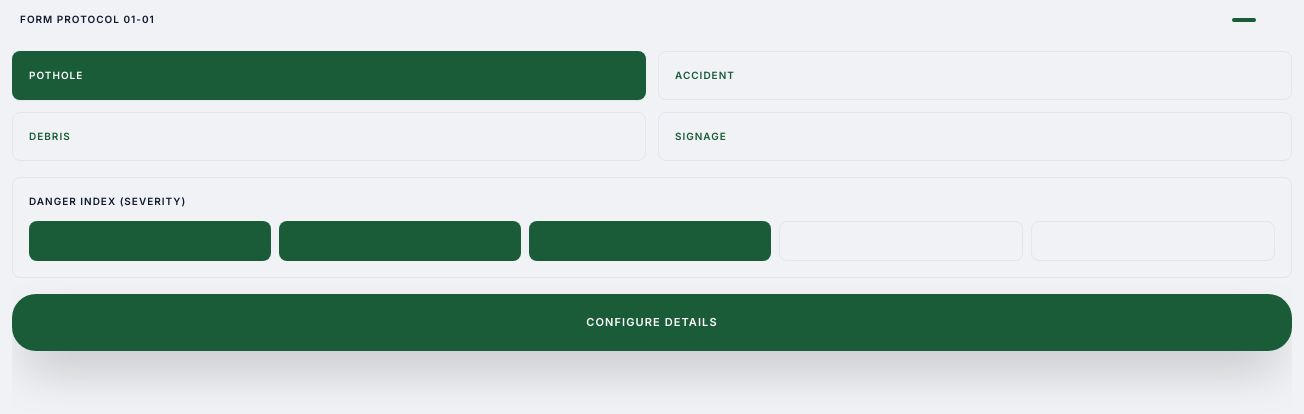
Test case: ReportForm › navigates to step 2 on configure details click
This screenshot has width=1304, height=414.
Click the button "Configure Details" at (652, 322), box [12, 294, 1292, 350]
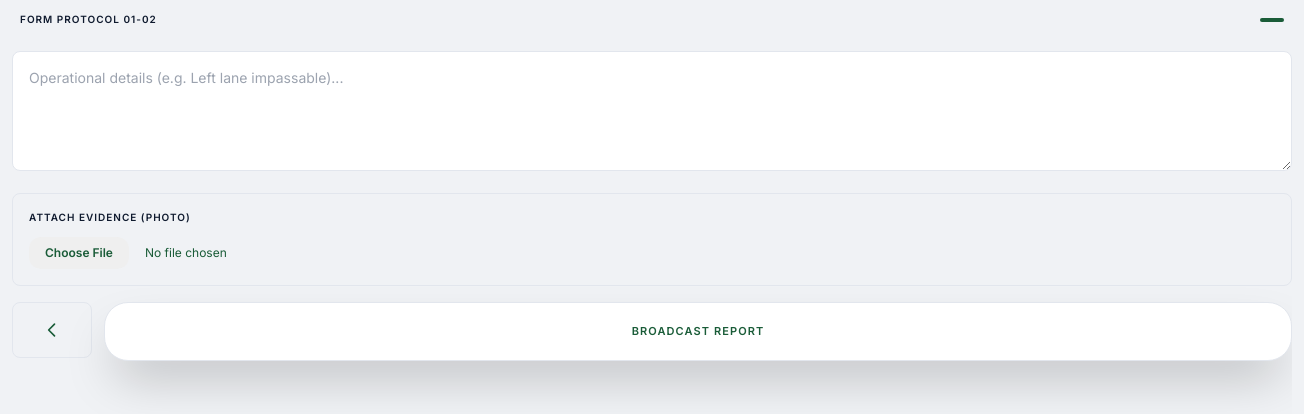
Now the text box named "description of the road issue" is shown, box [12, 51, 1292, 171]
Now the file field named "attach evidence photo" is shown, box [29, 237, 287, 269]
